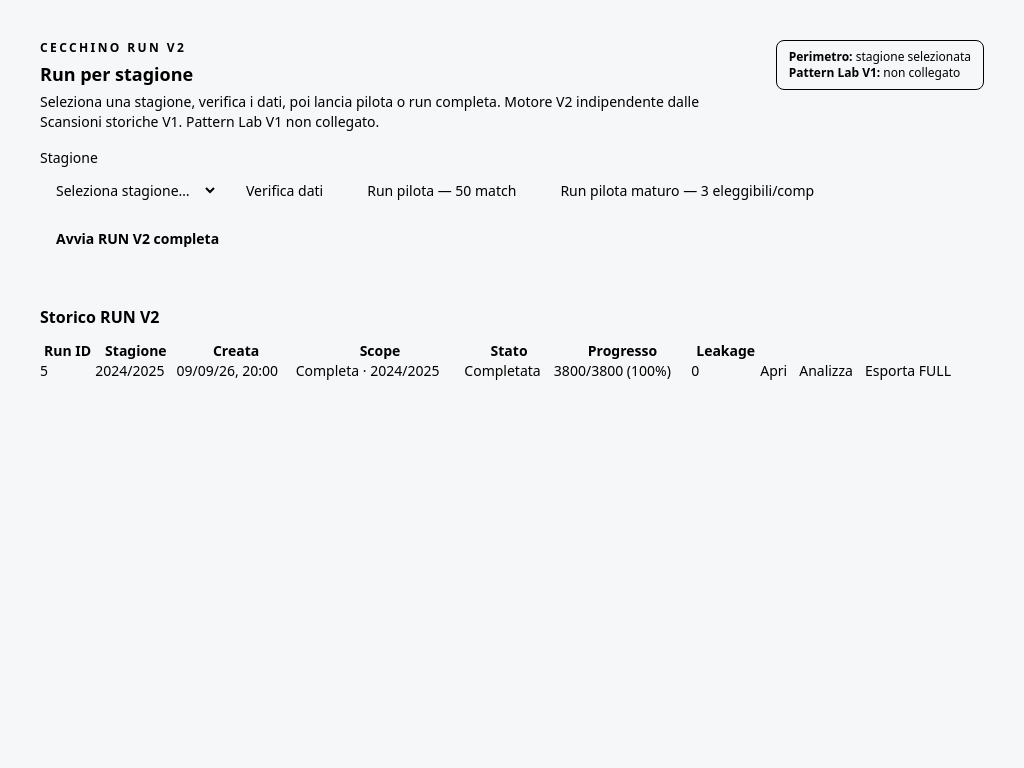
Test: CecchinoRunV2Section › senza sessione admin l'avvio apre il login invece di partire
Expected: the row with test id "run-v2-row-5" is shown, [40, 361, 984, 381]
Select "2024/2025" in the dropdown with test id "run-v2-season-select" at (129, 190), box [40, 172, 218, 209]
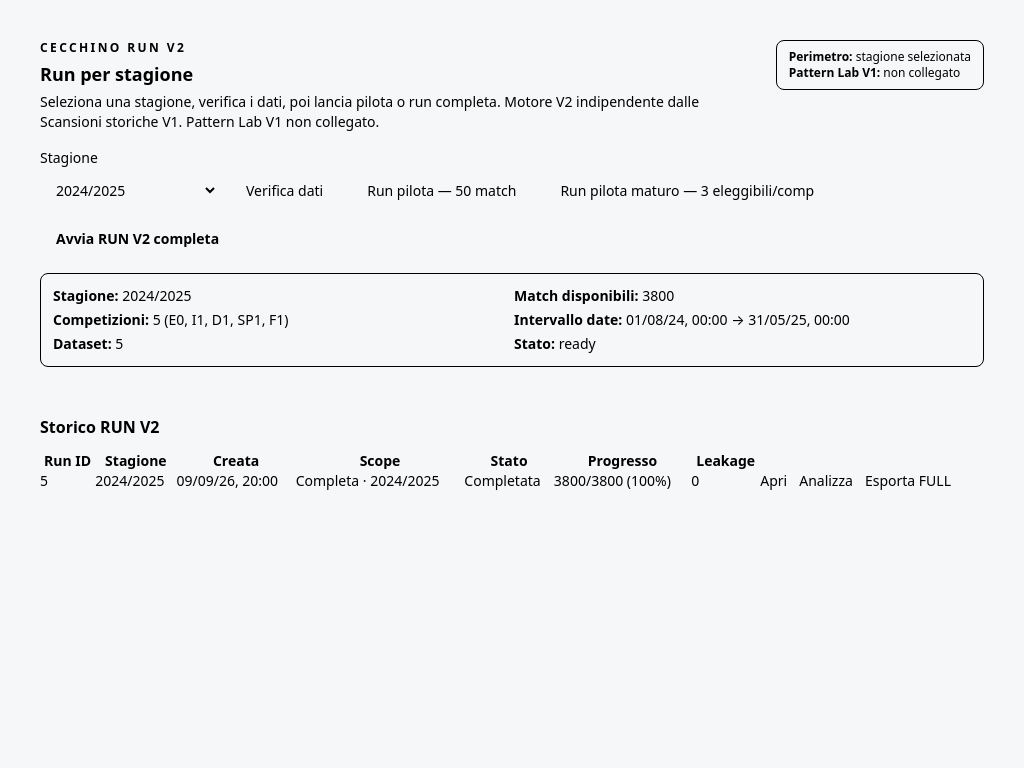
Now the element with test id "run-v2-preflight-panel" is shown, box [40, 273, 984, 367]
Click the button with test id "run-v2-start-full" at (138, 239), box [40, 221, 235, 257]
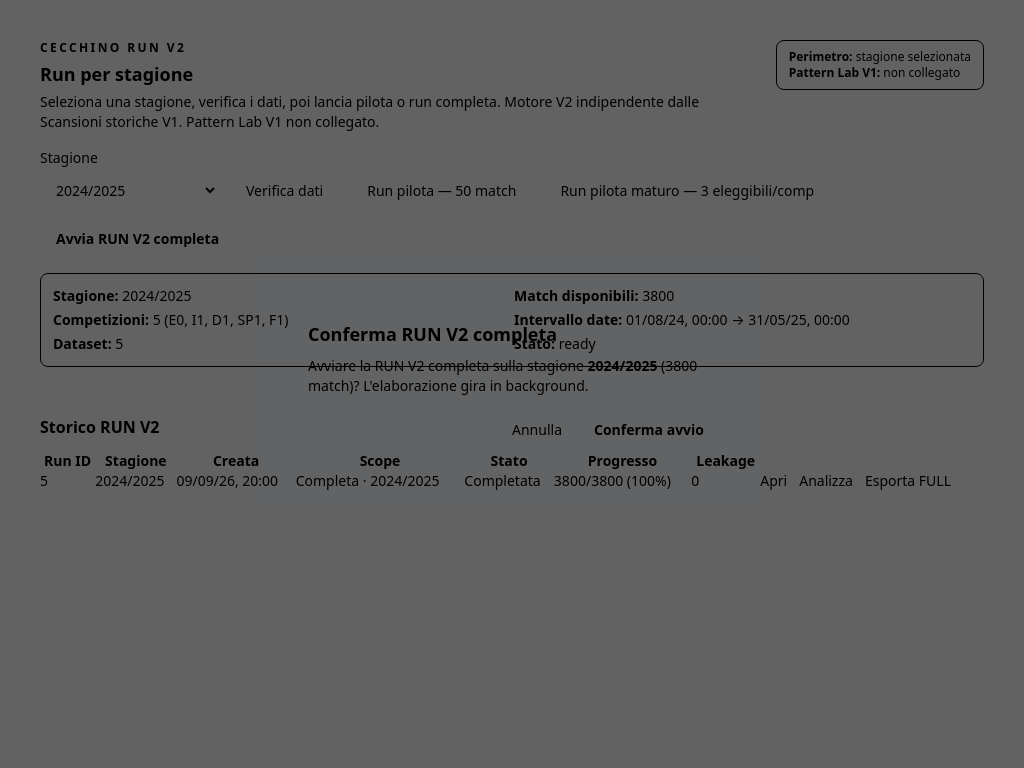
Click the button with test id "run-v2-confirm-start" at (649, 430), box [582, 412, 716, 448]
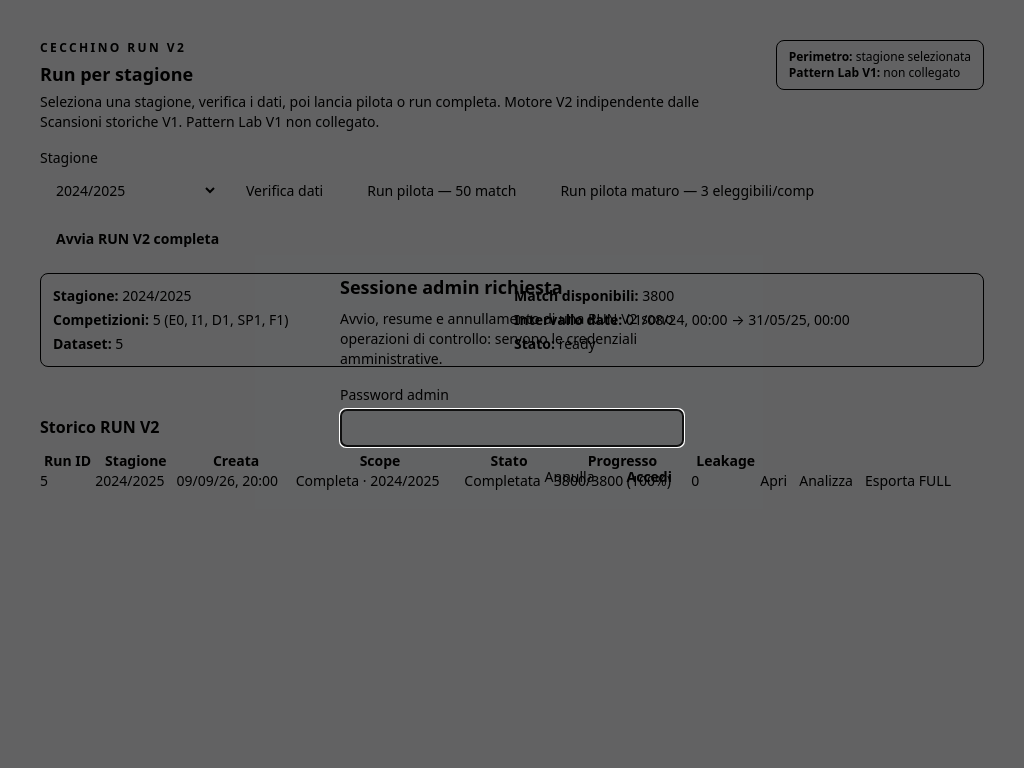
Now the dialog with test id "run-v2-login-dialog" is shown
